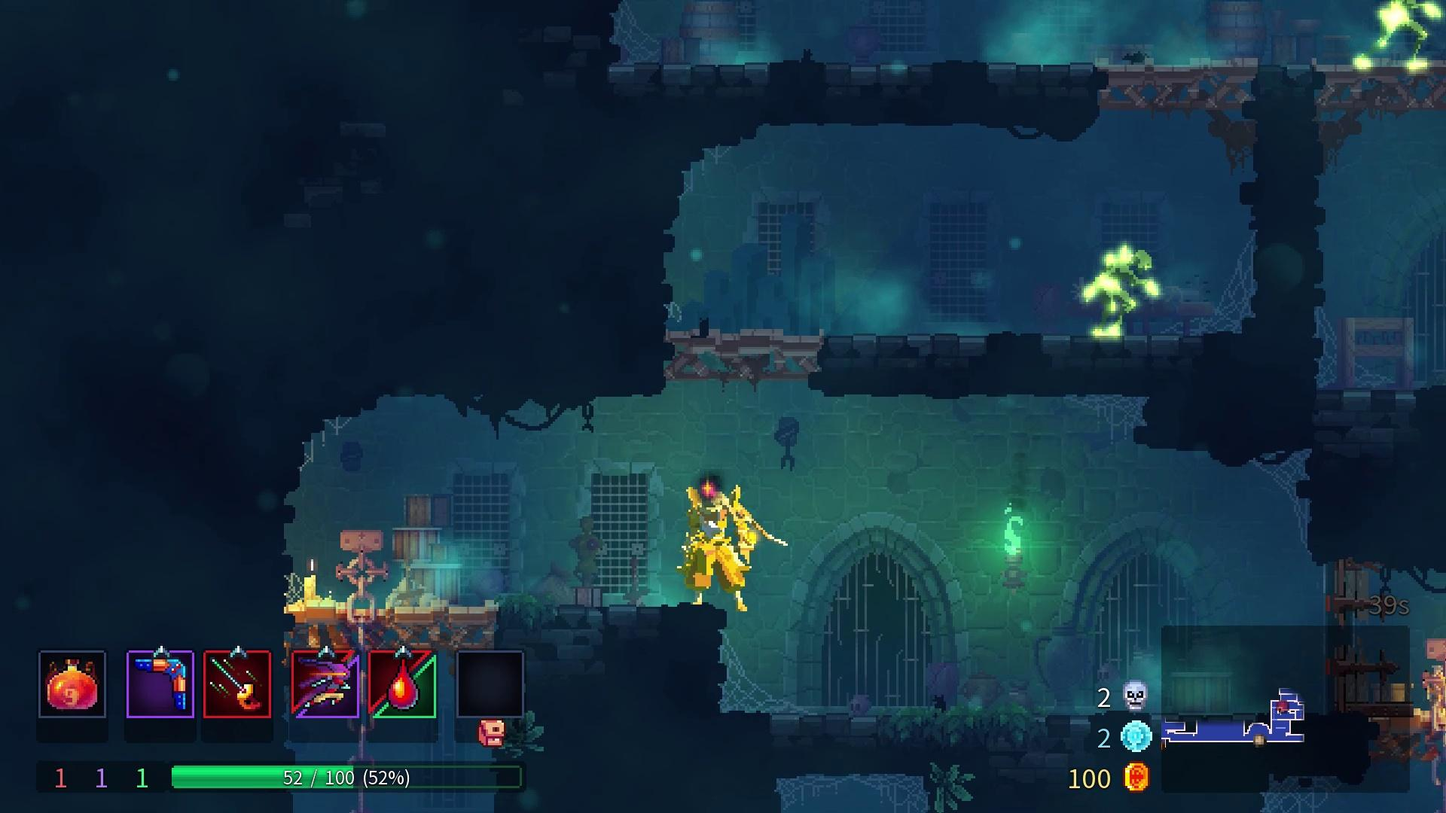gamer: (681, 458, 764, 610)
green1: (1074, 228, 1160, 342), (1358, 0, 1446, 76)
